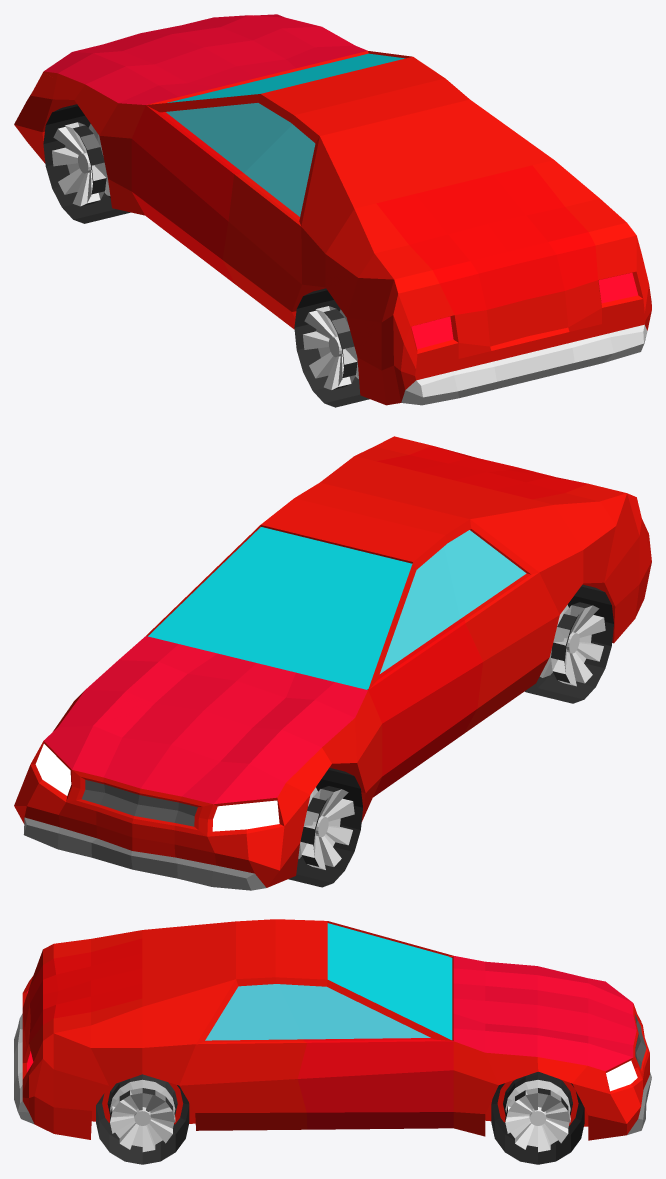
File: car.gltf
3 renders of one model, top to bottom at view 1: azimuth 30°, elevation 25°; view 2: azimuth 150°, elevation 25°; view 3: azimuth 270°, elevation 25°, orthographic. The views are drawn at different scales.
Visible parts, largest first — view 1: Car; view 2: Car; view 3: Car.
Boxes of the visible parts, <box> form: Car: <box>14,14,651,407</box>; Car: <box>14,436,651,890</box>; Car: <box>14,919,651,1164</box>.
Size of the model in its own units: 4.01 by 3.06 by 10.54.
